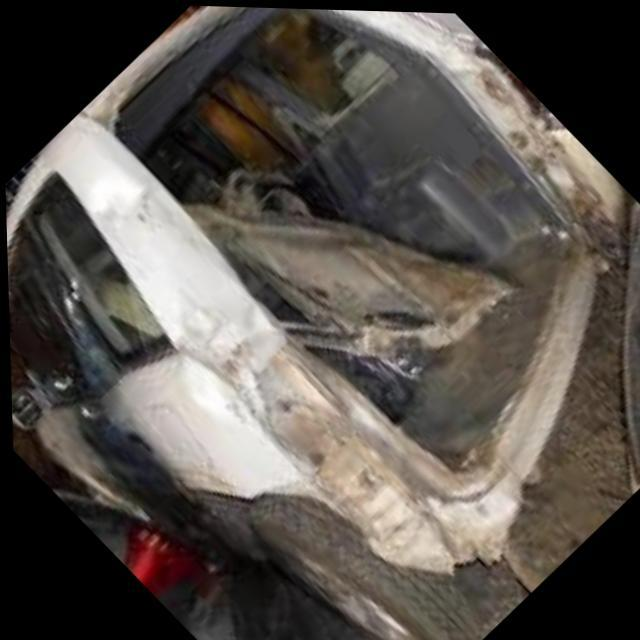no part: (50, 5, 617, 581)
